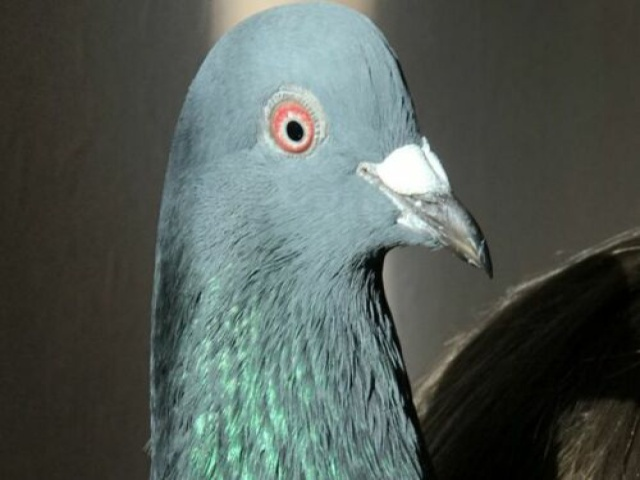Pigeon: (141, 5, 491, 480)
